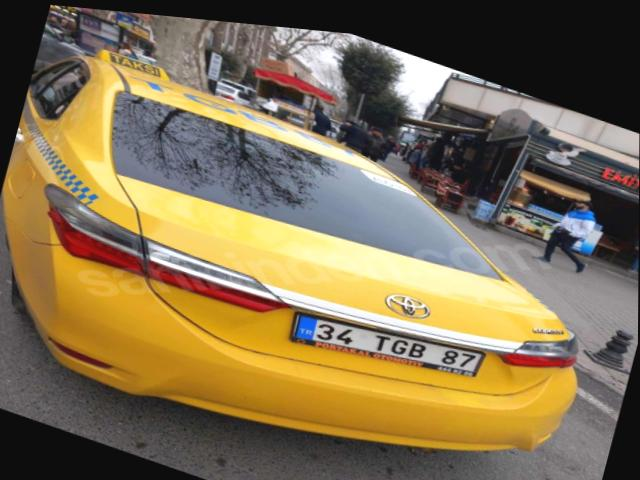plaka: (290, 314, 484, 377)
